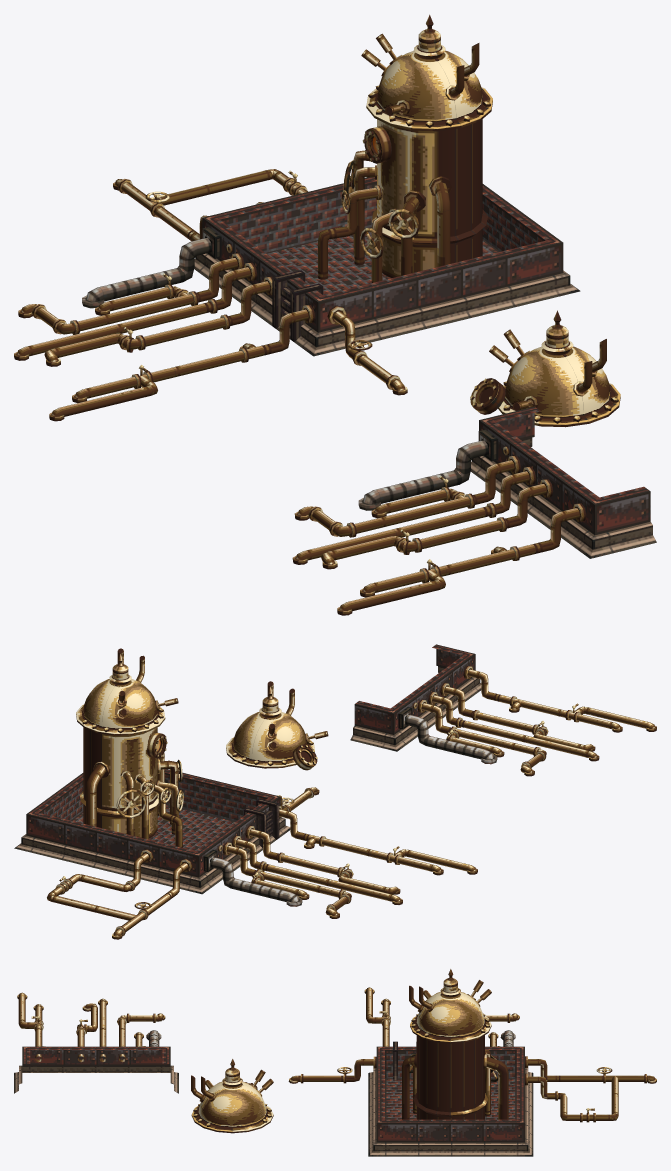
File: EnvMdrMD_Factory_A_Core_A.FBX
3 renders of one model, top to bottom at view 1: azimuth 30°, elevation 25°; view 2: azimuth 150°, elevation 25°; view 3: azimuth 270°, elevation 25°, orthographic. The views are drawn at different scales.
Parts seen in each view (by area): view 1: EnvMdrMD_Factory_A_Core_A, EnvMdrMD_Factory_A_Core_C, EnvMdrMD_Factory_A_Core_B; view 2: EnvMdrMD_Factory_A_Core_A, EnvMdrMD_Factory_A_Core_C, EnvMdrMD_Factory_A_Core_B; view 3: EnvMdrMD_Factory_A_Core_A, EnvMdrMD_Factory_A_Core_C, EnvMdrMD_Factory_A_Core_B.
Boxes of the visible parts, <box> form: EnvMdrMD_Factory_A_Core_A: <box>14,14,580,421</box>; EnvMdrMD_Factory_A_Core_C: <box>292,406,656,615</box>; EnvMdrMD_Factory_A_Core_B: <box>470,310,620,427</box>; EnvMdrMD_Factory_A_Core_A: <box>14,648,477,939</box>; EnvMdrMD_Factory_A_Core_C: <box>350,644,656,776</box>; EnvMdrMD_Factory_A_Core_B: <box>226,681,328,770</box>; EnvMdrMD_Factory_A_Core_A: <box>288,969,656,1156</box>; EnvMdrMD_Factory_A_Core_C: <box>14,992,178,1093</box>; EnvMdrMD_Factory_A_Core_B: <box>191,1059,273,1133</box>.
Size of the model in its own units: 1189 by 547 by 1950.
1 material, 1 textured.
